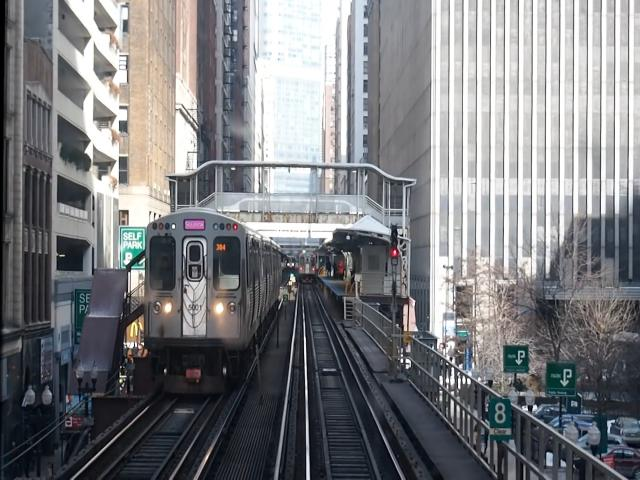signal light: (390, 224, 402, 270)
